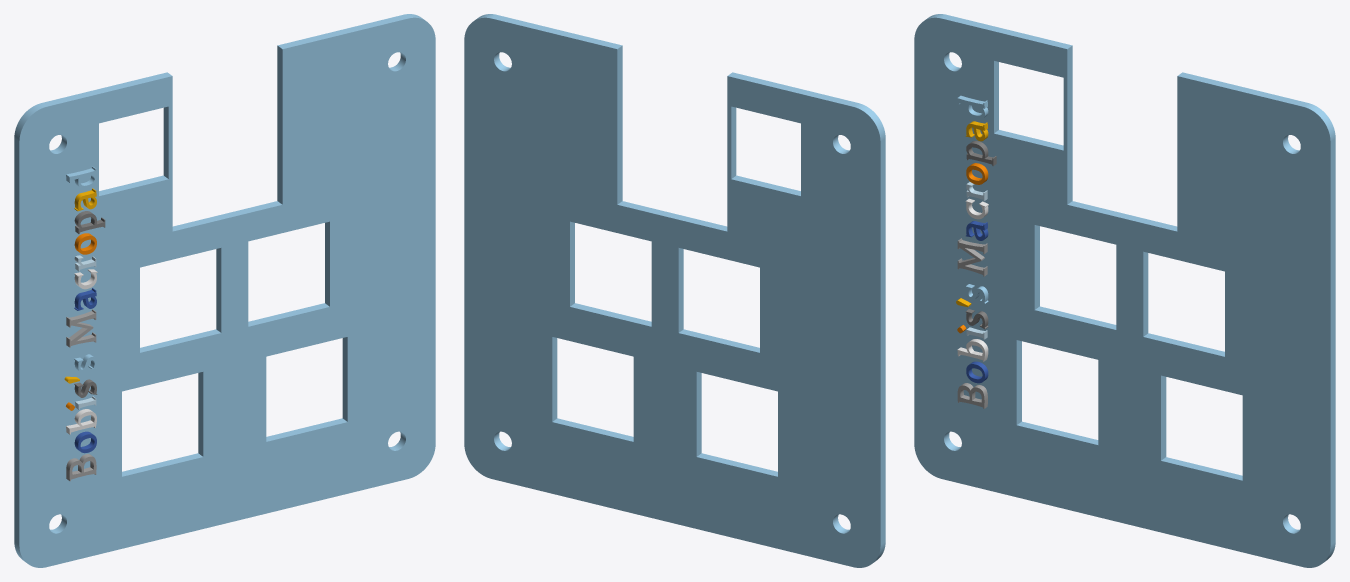
File: Top.obj
3 views of the same model, side by side, from view 1: azimuth 30°, elevation 25°; view 2: azimuth 150°, elevation 25°; view 3: azimuth 330°, elevation 25° (orthographic).
Parts seen in each view (by area): view 1: mesh32, mesh36, mesh40, mesh35, mesh39, mesh41; view 2: mesh33, mesh36, mesh40, mesh35, mesh39, mesh41; view 3: mesh32, mesh38, mesh34, mesh39, mesh35, mesh41.
Part boxes in pixels (box(x1,y1,x2,y2)): mesh32: box(19, 17, 435, 567); mesh36: box(14, 138, 19, 544); mesh40: box(277, 45, 282, 204); mesh35: box(42, 72, 171, 106); mesh39: box(277, 15, 407, 49); mesh41: box(172, 201, 282, 231); mesh33: box(464, 17, 880, 567); mesh36: box(880, 138, 885, 544); mesh40: box(617, 45, 622, 204); mesh35: box(728, 72, 857, 106); mesh39: box(492, 15, 622, 49); mesh41: box(617, 201, 727, 231); mesh32: box(914, 17, 1330, 567); mesh38: box(1330, 138, 1335, 544); mesh34: box(1067, 45, 1072, 204); mesh39: box(1178, 72, 1307, 106); mesh35: box(942, 15, 1072, 49); mesh41: box(1067, 201, 1177, 231).
Bounding box in the file's own units: 0.07 × 0.074 × 0.0025.
